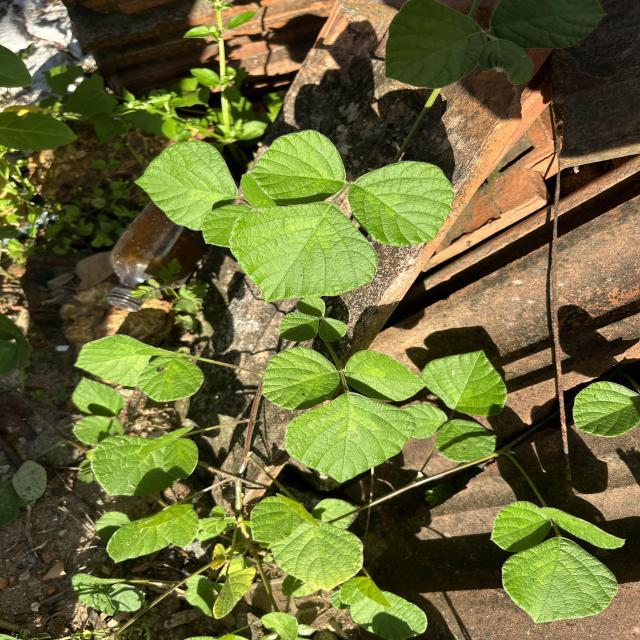Pseudarthria viscida: (228, 127, 457, 306), (260, 345, 431, 485), (488, 498, 630, 625)
